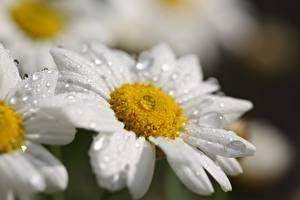chamomile: (79, 58, 193, 175), (0, 62, 66, 200)
